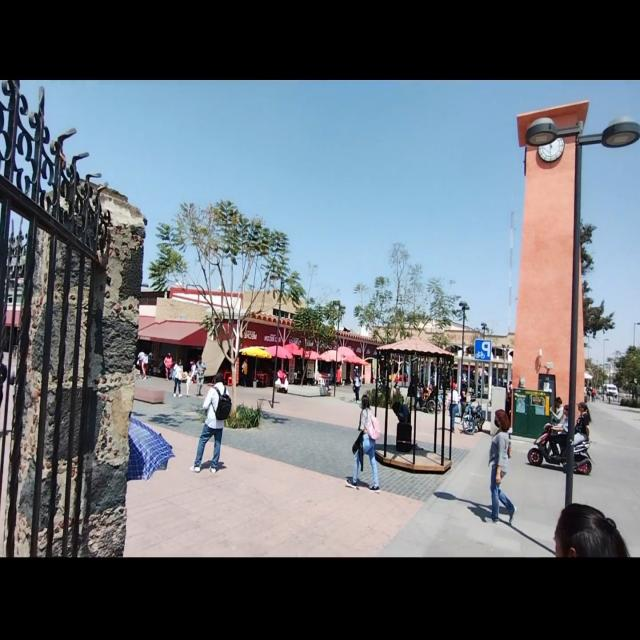adult: (189, 373, 231, 473), (482, 410, 516, 522), (345, 394, 379, 490), (548, 405, 569, 458), (574, 402, 590, 447), (172, 358, 184, 398), (196, 357, 207, 396), (549, 397, 563, 426)
